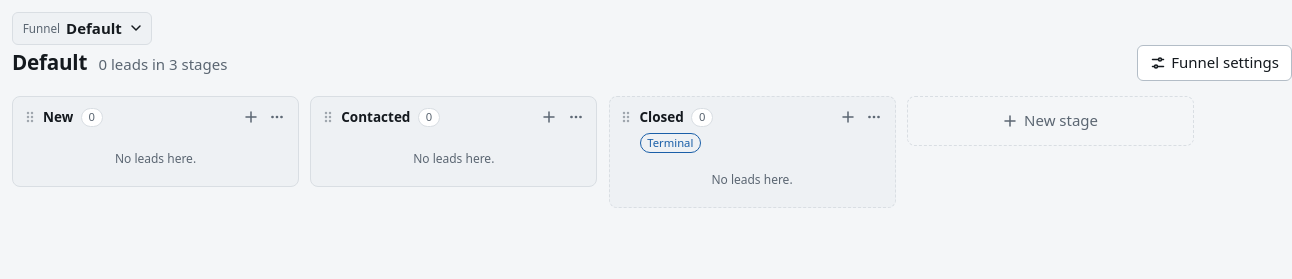
it: the funnel switcher › switches the board to another funnel’s stages, where stages are added
Check: the element "New" is shown, box 12,96 -> 299,187
Click the button with aria-label "Funnel: Default" at (82, 28), box 12,12 -> 152,45
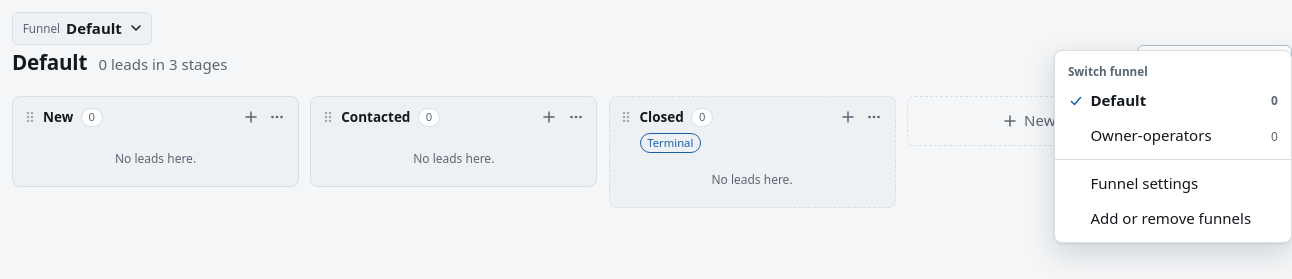
Click the button "Owner-operators 0" at (1173, 136), box 1060,119 -> 1285,154
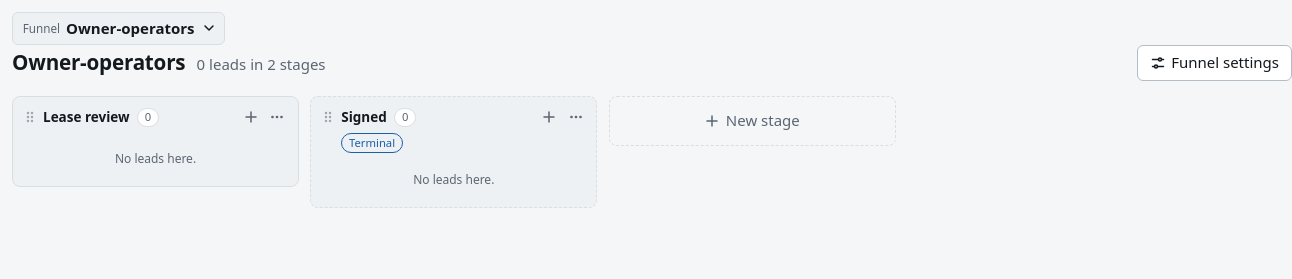
Check: the element "Lease review" is shown, box 12,96 -> 299,187
Check: the heading "Owner-operators" is shown, box 12,48 -> 185,78
Check: the link "Add or remove funnels" is gone
Click the button "New stage" at (752, 121), box 617,104 -> 887,138
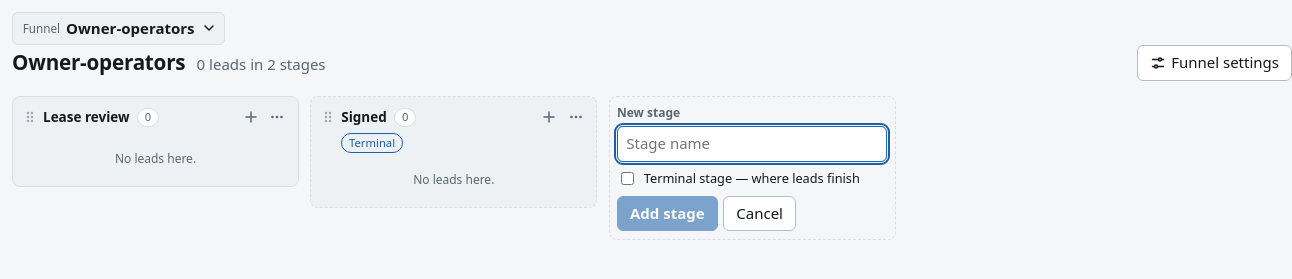
Type "Inspection" into the field labelled "New stage" at (752, 144), box 617,126 -> 887,162
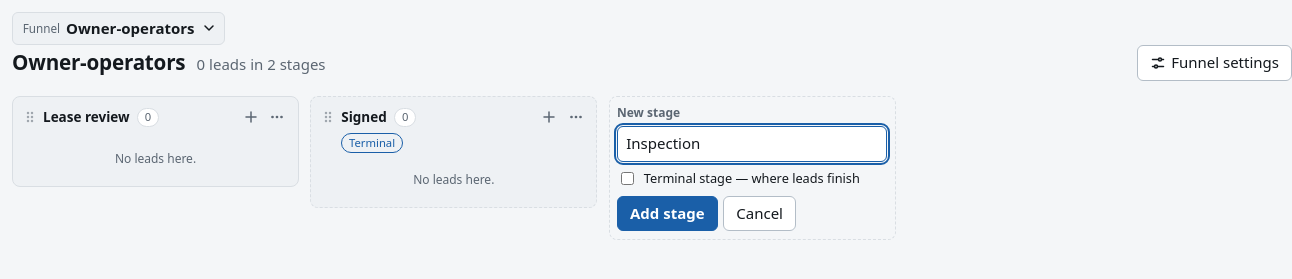
Click the button "Add stage" at (667, 214), box 617,196 -> 718,231
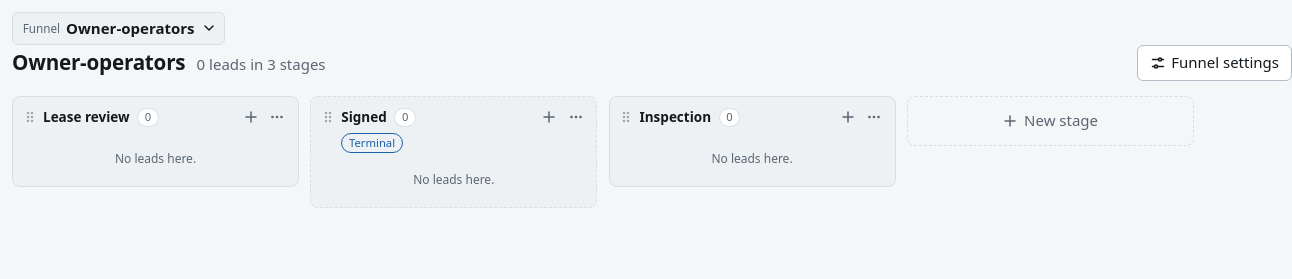
Check: the element "Inspection" is shown, box 608,96 -> 896,187
